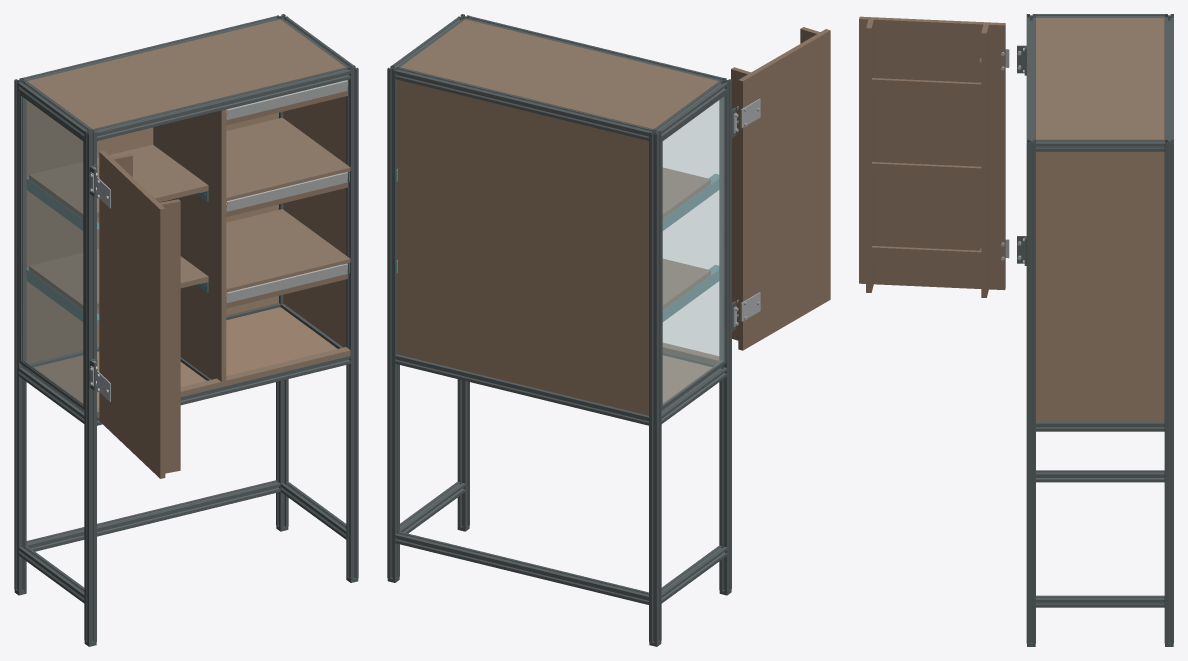
File: cabinet-open.glb
3 renders of one model, left to right at view 1: azimuth 30°, elevation 25°; view 2: azimuth 150°, elevation 25°; view 3: azimuth 270°, elevation 25°, orthographic.
Parts seen in each view (by area): view 1: Door-face-18, Left-glass-6, Top-18, Center-18, Back-infill-8, Right-infill-8, Shelf-Right-2, Shelf-Right-1, Post-966-23, Post-4-23, Post-4-470, Floor-Right-8 (+27 smaller); view 2: Back-infill-8, Door-face-18, Left-glass-6, Top-18, Post-4-470, Post-966-470, Post-4-23, Beam-top-rear, Beam-lower-rear, Beam-body-rear, Post-966-23, Door-inner-hinge-18 (+12 smaller); view 3: Right-infill-8, Door-face-18, Top-18, Post-966-23, Post-966-470, Door-inner-hinge-18, Door-inner-meeting-18, Beam-lower-side-4, Beam-lower-side-966, Beam-top-side-966, Door-lip-2-12, Door-lip-3-12 (+5 smaller).
Part boxes in pixels (<box>): Door-face-18: <box>99,151,165,478</box>; Left-glass-6: <box>21,96,83,405</box>; Top-18: <box>27,19,345,129</box>; Center-18: <box>153,109,226,386</box>; Back-infill-8: <box>26,100,278,363</box>; Right-infill-8: <box>283,96,346,347</box>; Shelf-Right-2: <box>226,117,350,201</box>; Shelf-Right-1: <box>226,209,350,292</box>; Post-966-23: <box>346,65,358,579</box>; Post-4-23: <box>84,129,96,643</box>; Post-4-470: <box>14,78,26,592</box>; Floor-Right-8: <box>226,307,337,375</box>; Back-infill-8: <box>397,79,648,415</box>; Door-face-18: <box>738,29,830,350</box>; Left-glass-6: <box>662,96,724,405</box>; Top-18: <box>400,19,718,129</box>; Post-4-470: <box>649,129,661,643</box>; Post-966-470: <box>387,65,399,579</box>; Post-4-23: <box>719,78,731,592</box>; Beam-top-rear: <box>395,67,652,140</box>; Beam-lower-rear: <box>395,531,648,604</box>; Beam-body-rear: <box>395,354,648,425</box>; Post-966-23: <box>457,14,469,528</box>; Door-inner-hinge-18: <box>731,67,750,340</box>; Right-infill-8: <box>1036,151,1164,421</box>; Door-face-18: <box>859,16,1005,290</box>; Top-18: <box>1036,18,1164,139</box>; Post-966-23: <box>1026,139,1035,643</box>; Post-966-470: <box>1164,139,1173,643</box>; Door-inner-hinge-18: <box>981,24,988,297</box>; Door-inner-meeting-18: <box>866,19,873,292</box>; Beam-lower-side-4: <box>1036,470,1164,482</box>; Beam-lower-side-966: <box>1036,595,1164,607</box>; Beam-top-side-966: <box>1036,139,1164,151</box>; Door-lip-2-12: <box>871,162,981,178</box>; Door-lip-3-12: <box>871,78,981,94</box>.
Bounding box in the file's own units: 1.04 × 1.8 × 1.02.
